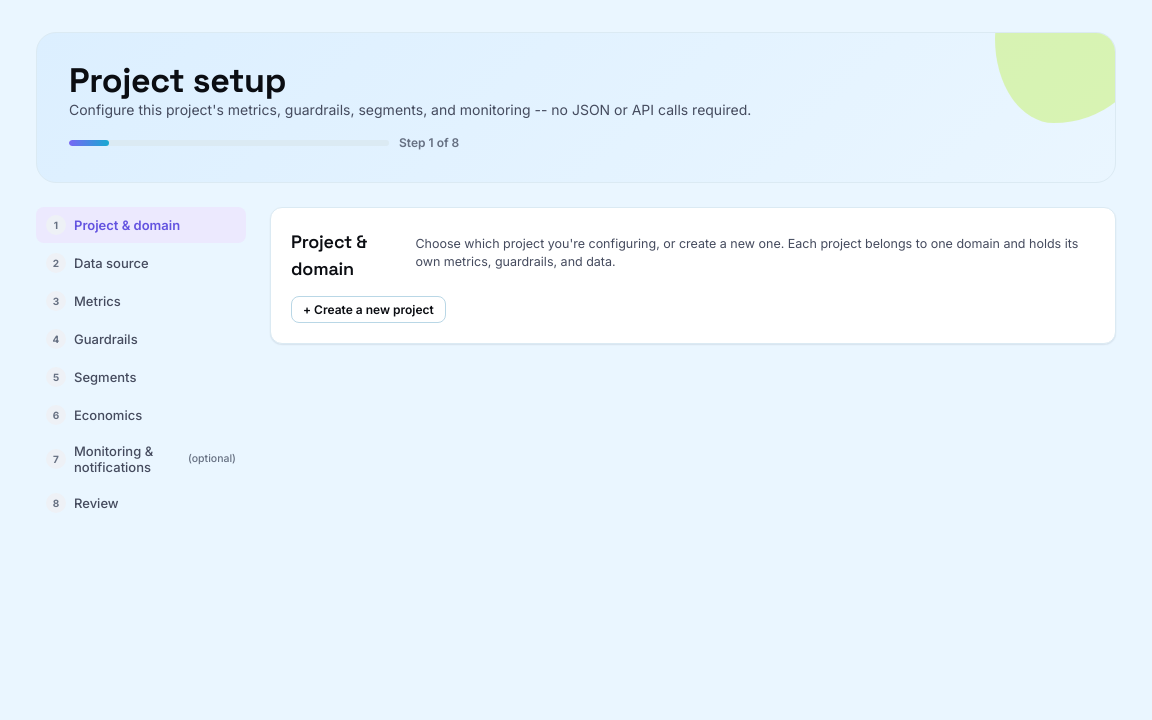
Scenario: OnboardingPage › economics: a cost column without a success column is rejected client-side
The width and height of the screenshot is (1152, 720).
Click the button "6 Economics" at (141, 415), box x1=36 y1=397 x2=246 y2=433
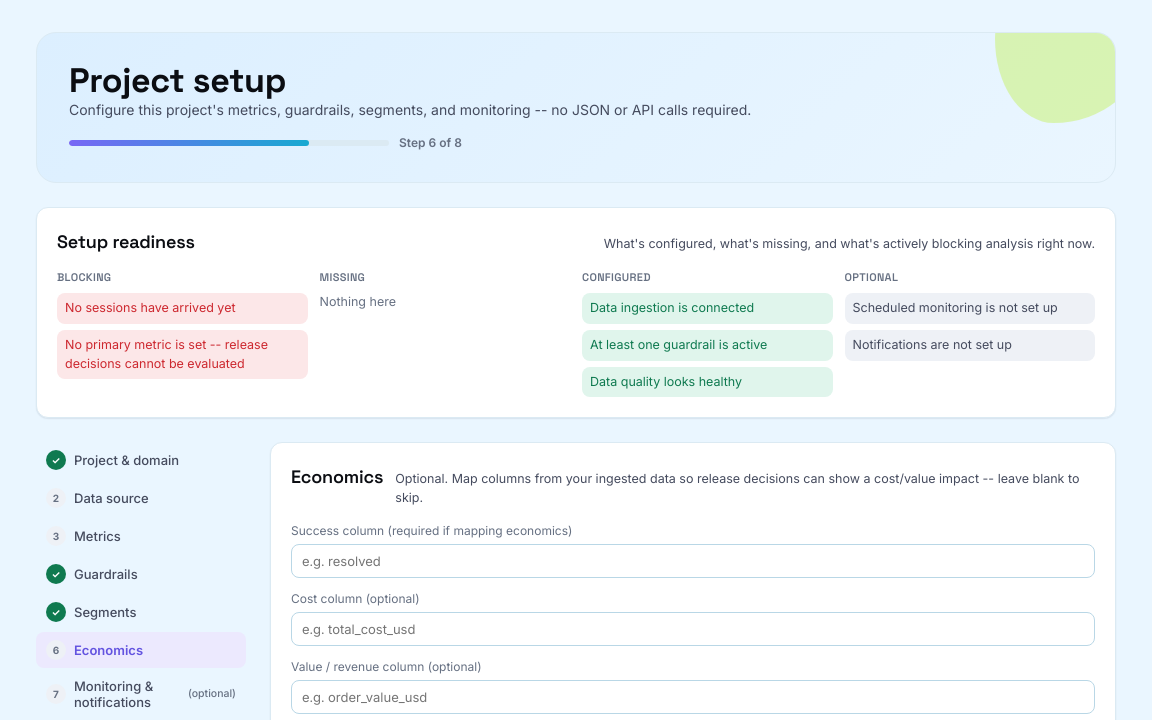
Type "total_cost_usd" into the field labelled "Cost column (optional)" at (693, 629), box x1=291 y1=612 x2=1095 y2=646
(page scrolled)
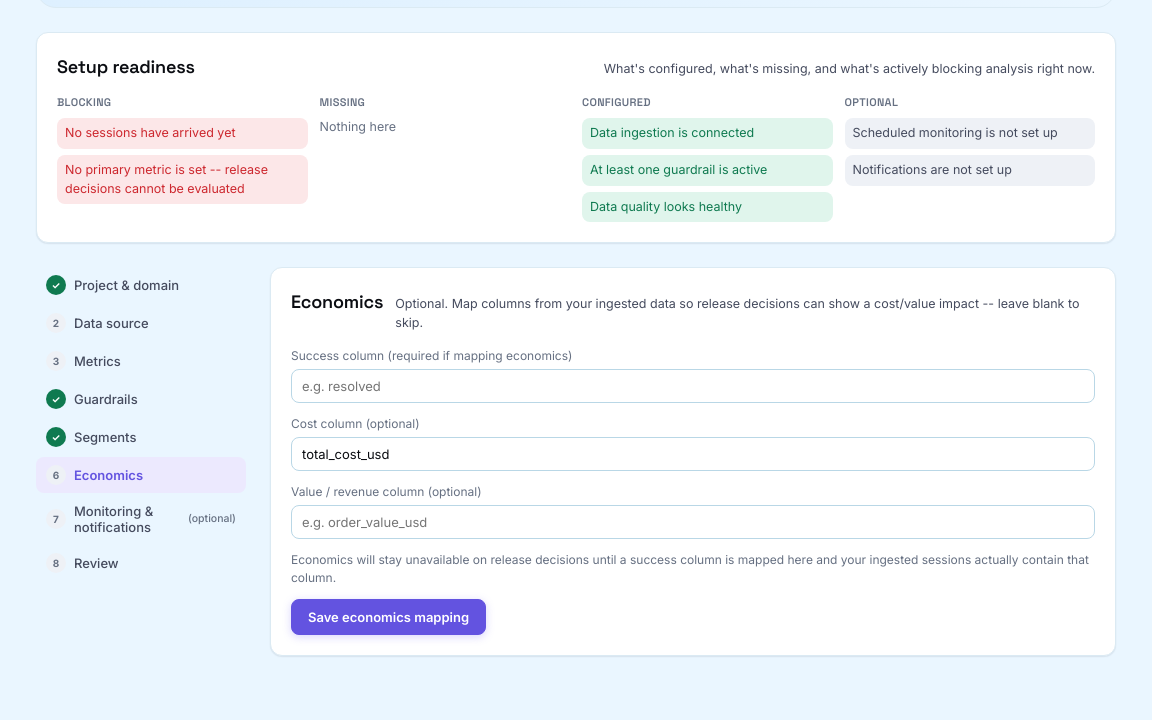
Click the button "Save economics mapping" at (389, 617), box x1=291 y1=599 x2=486 y2=635
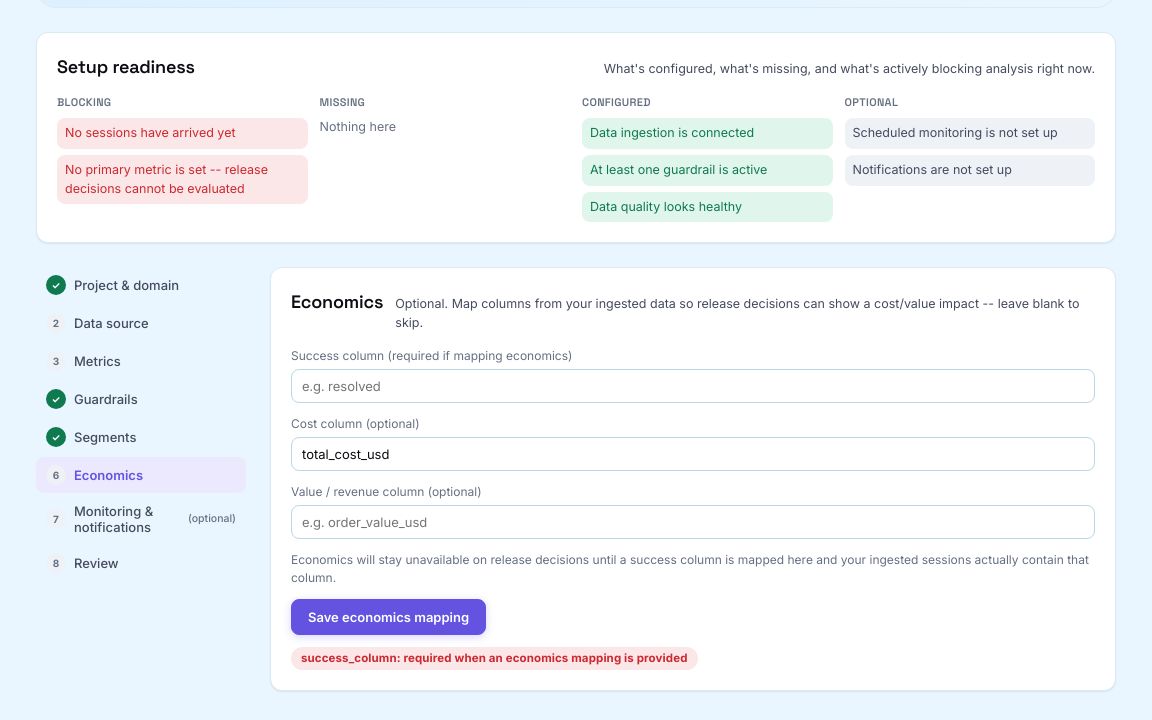
Check: the text "success_column: required" is shown, box x1=301 y1=651 x2=688 y2=665
